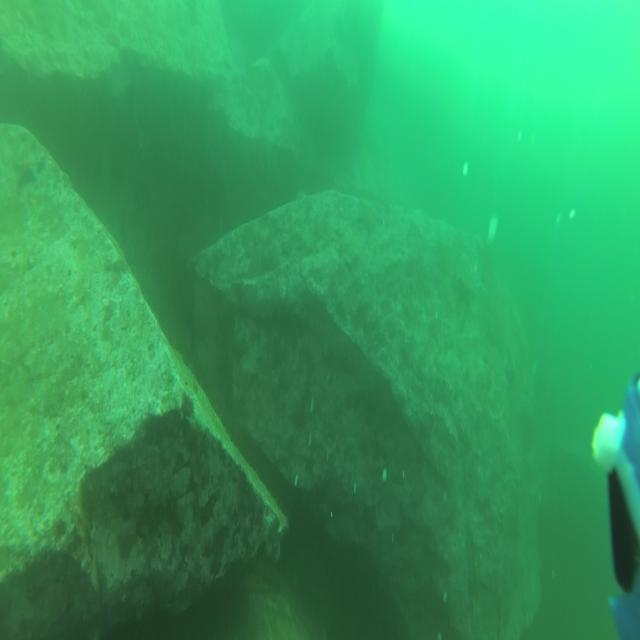starfish: (12, 151, 47, 192), (359, 497, 382, 540), (450, 273, 473, 311)
